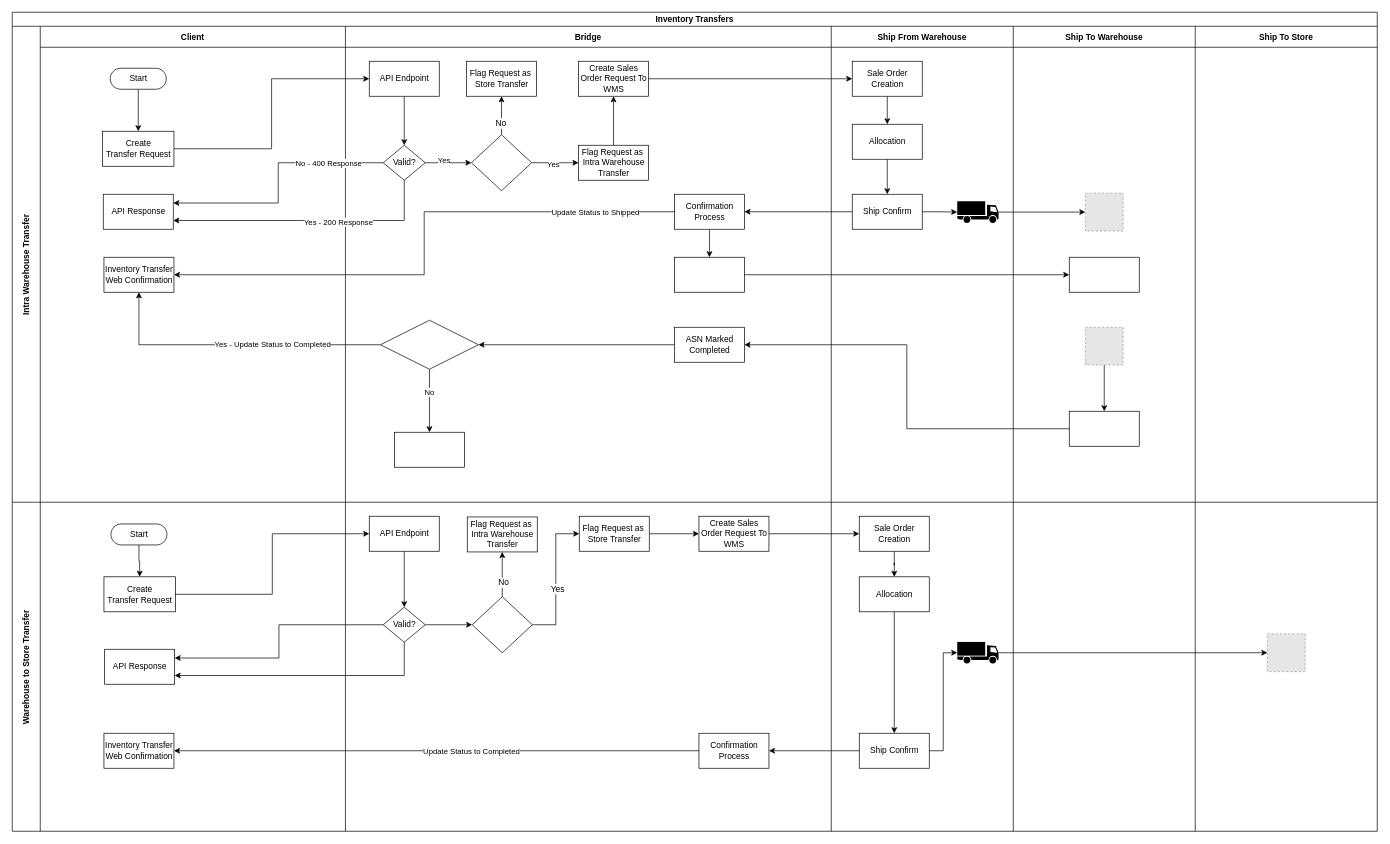
Some shapes in this 1390 by 844 pixel diagram are drawn without their labels. Grey dashed boxes stand in for pictures. The shapes that lost their labels are listed below. From the top down, each one's centre as x and y in pixels, then its label:
At point (501, 162): "Ship To Warehouse?".
At point (709, 274): "Create ASN For Ship To Warehouse".
At point (1104, 274): "ASN Creation".
At point (429, 344): "Check If ASN is for Transfer".
At point (1104, 428): "ASN Receipts and Closing".
At point (429, 449): "Use Current ASN Process".
At point (501, 624): "Ship To Store?".
